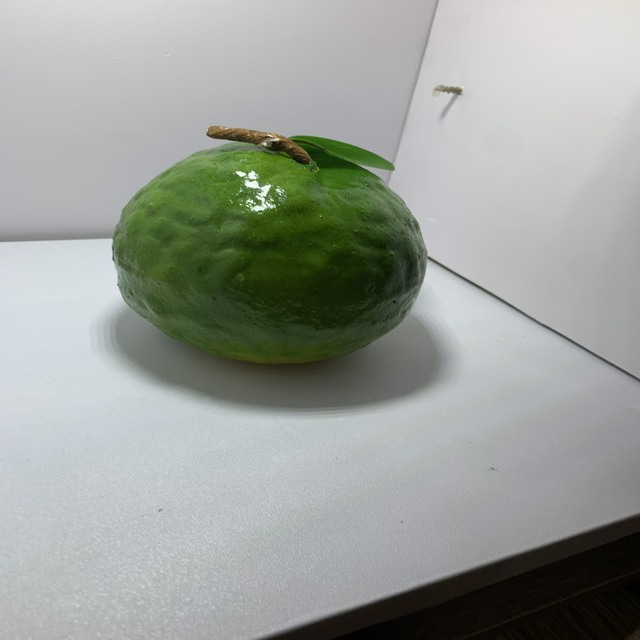Cam xanh: (97, 115, 447, 380)
